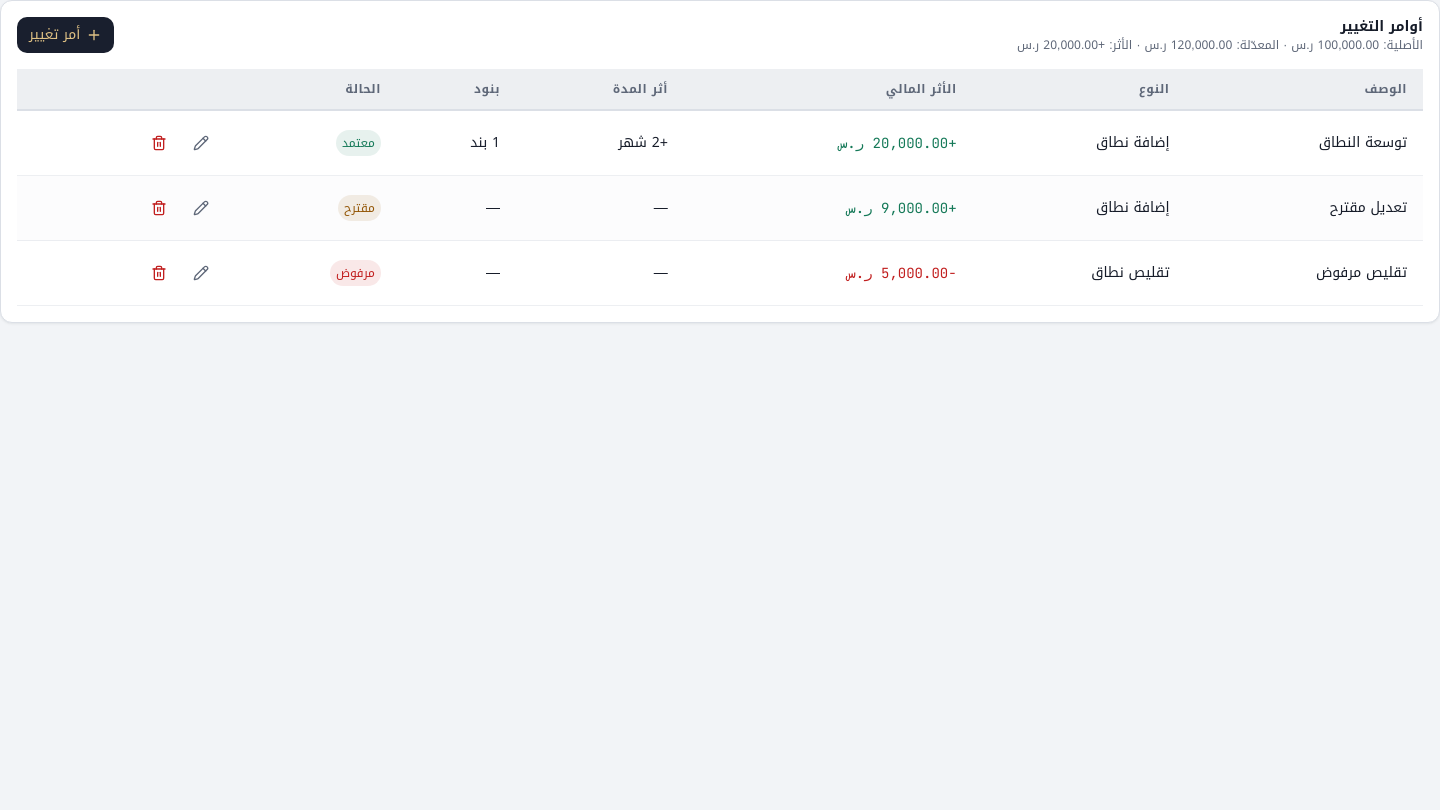
Scenario: adding an order › adds a proposed order with its impact and the budget items it carries
Later steps or results of the test are not shown.
Click the button "أمر تغيير". click: (66, 35)
box: [17,17,114,53]
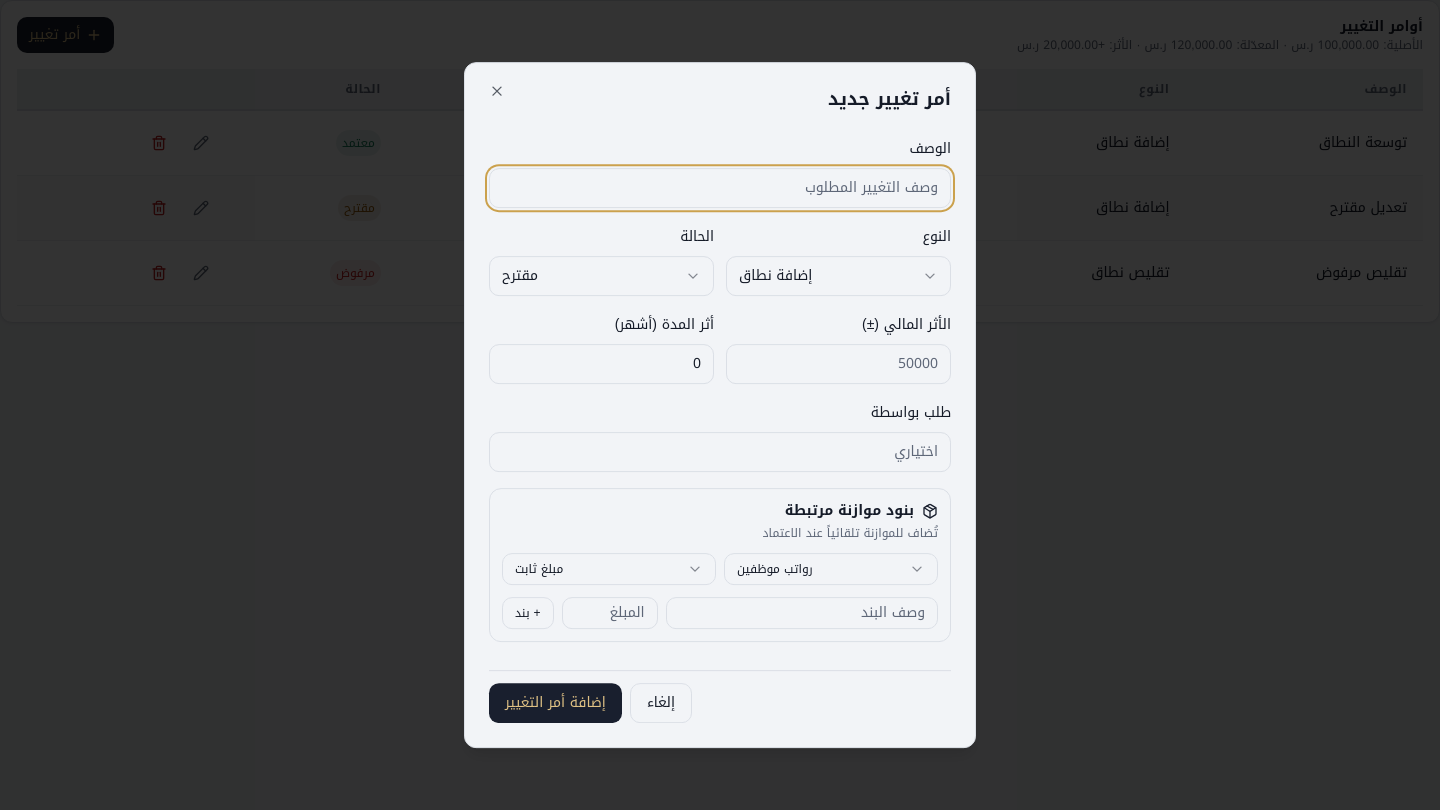
Type "أعمال إضافية" into the field with placeholder "وصف التغيير المطلوب". click: (720, 188)
box: [489,168,951,208]
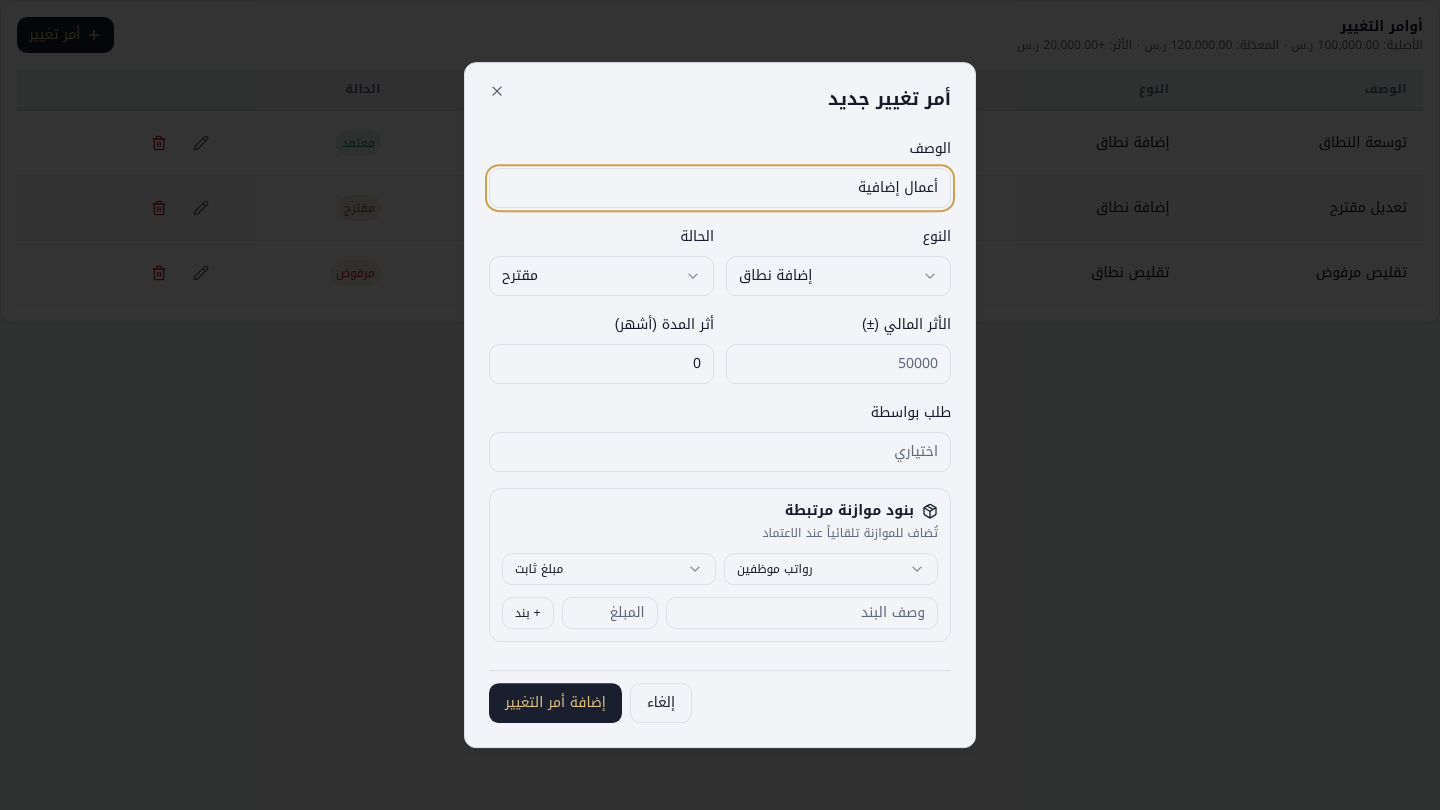
Type "30000" into the number field with placeholder "50000". click: (838, 364)
box: [726,344,951,384]
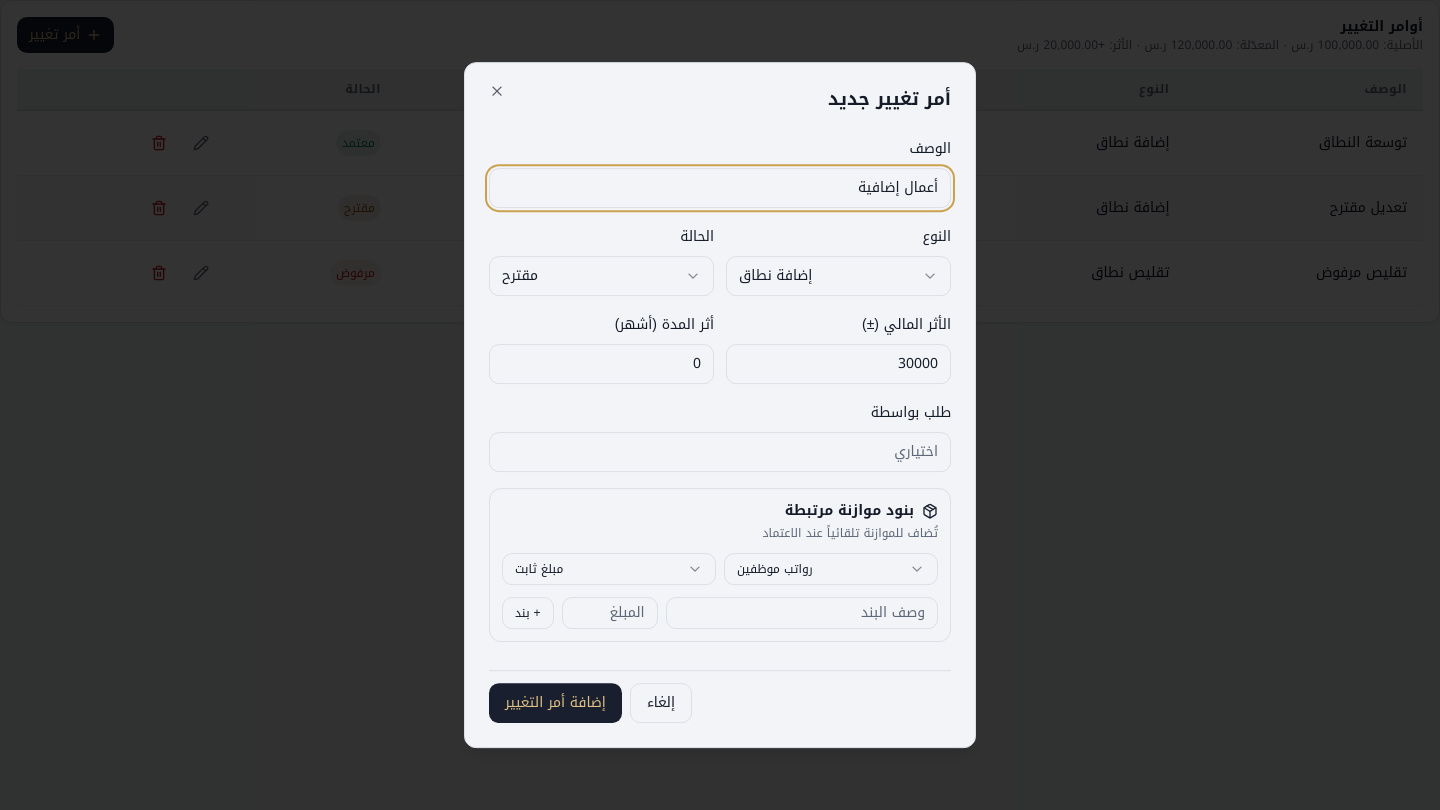
Type "مهندس إضافي" into the field with placeholder "وصف البند". click: (802, 613)
box: [666,597,938,629]
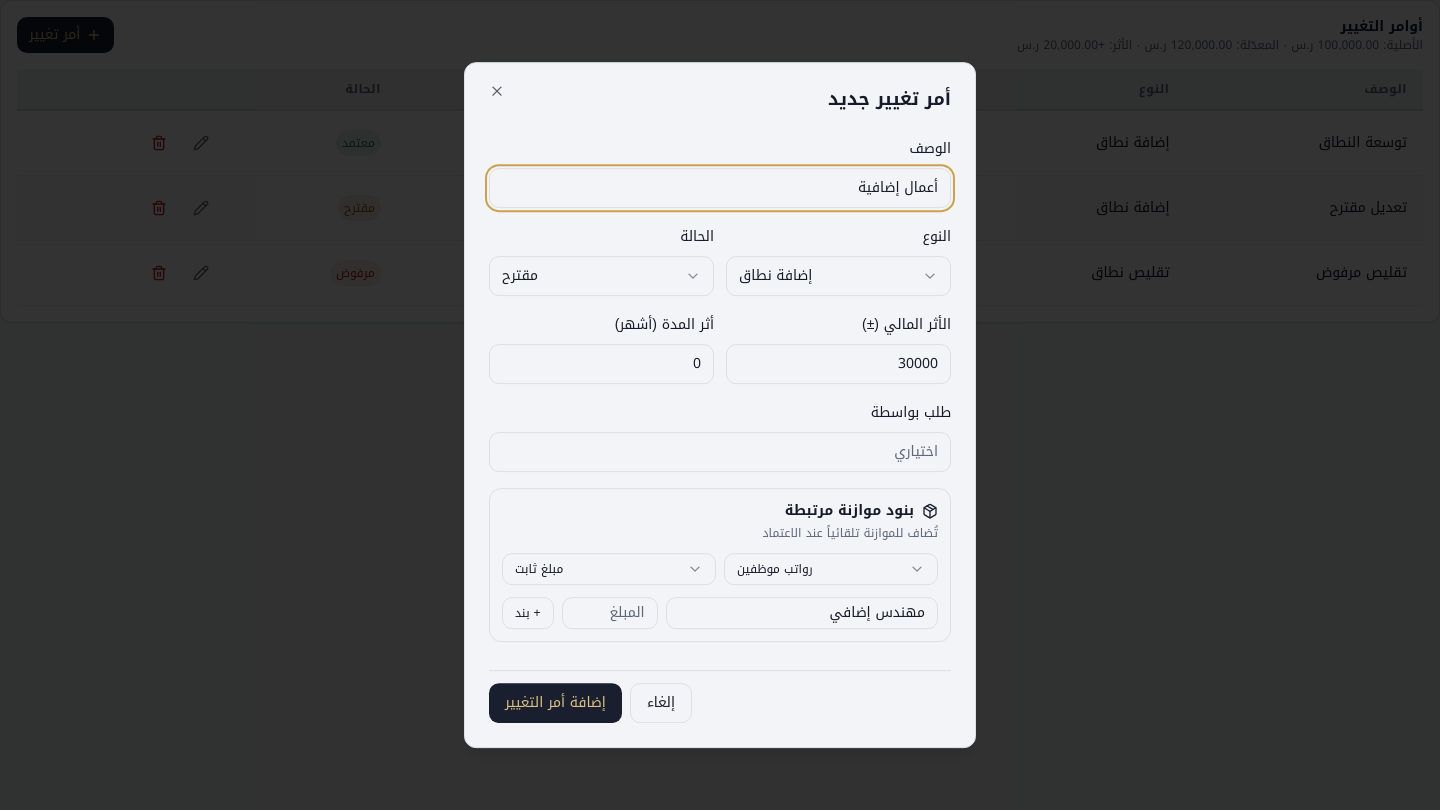
Type "12000" into the number field with placeholder "المبلغ". click: (610, 613)
box: [562,597,658,629]
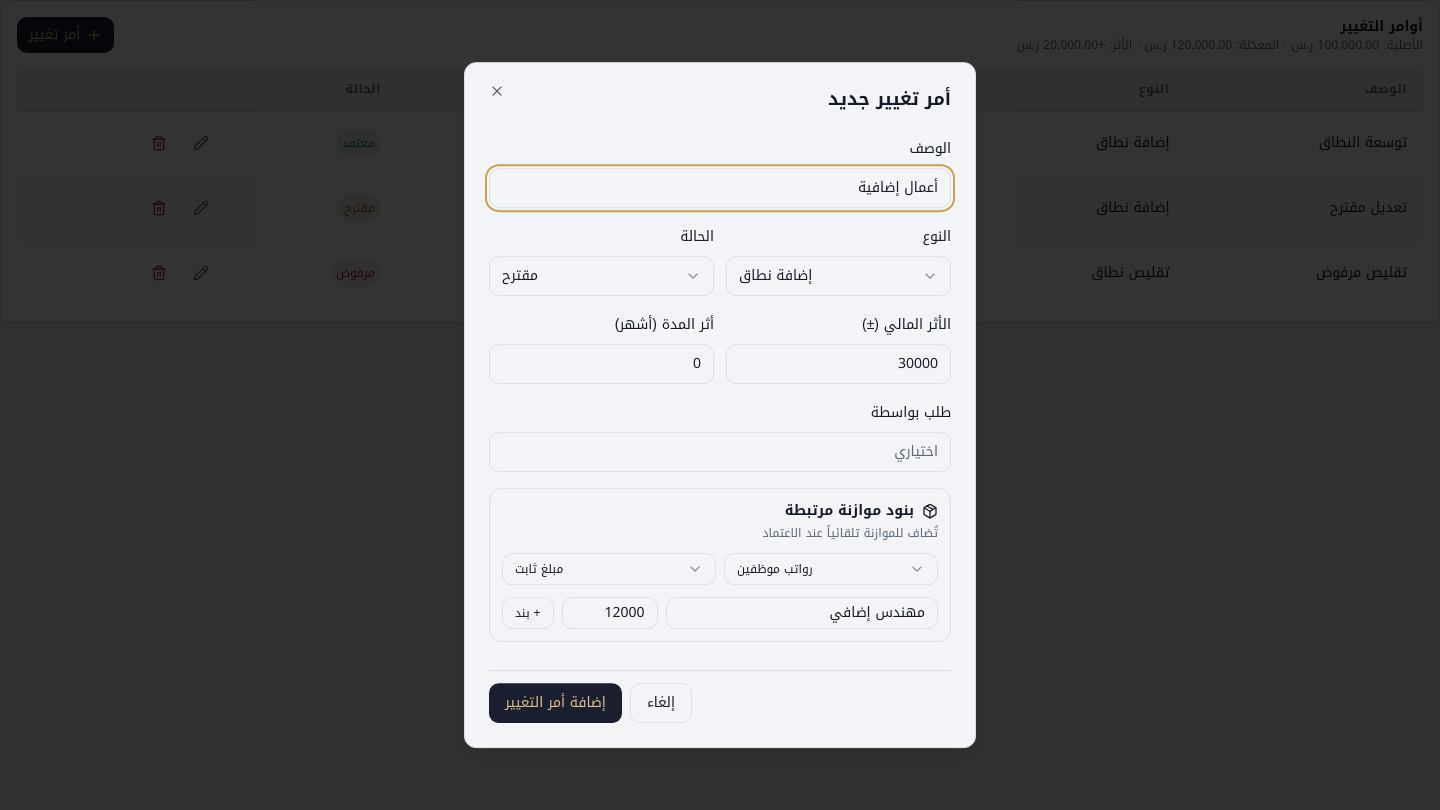
Click the button "+ بند". click: (528, 613)
box: [502,597,554,629]
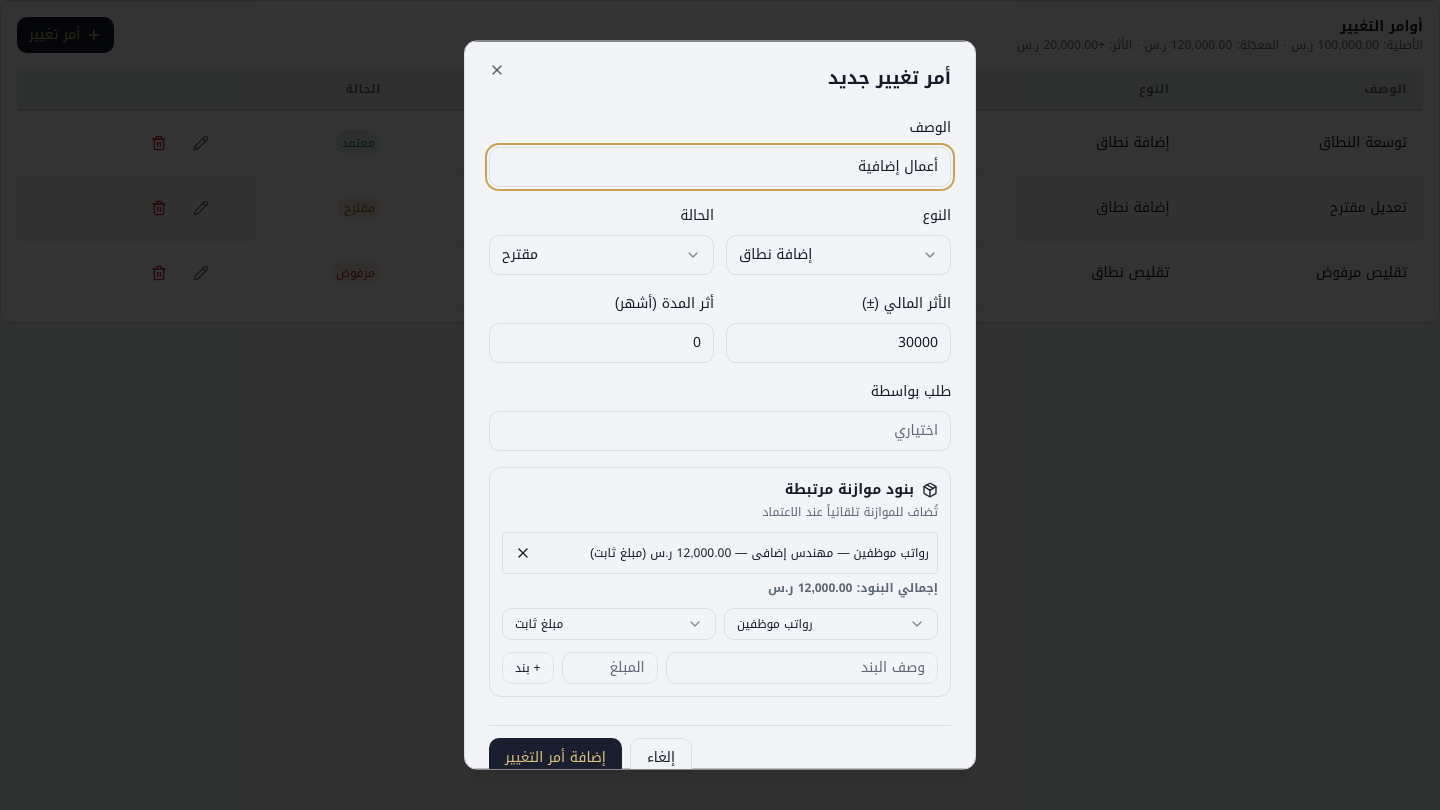
Expected: the text "إجمالي البنود: 12,000.00 ر.س" is shown, [768,576,938,598]
